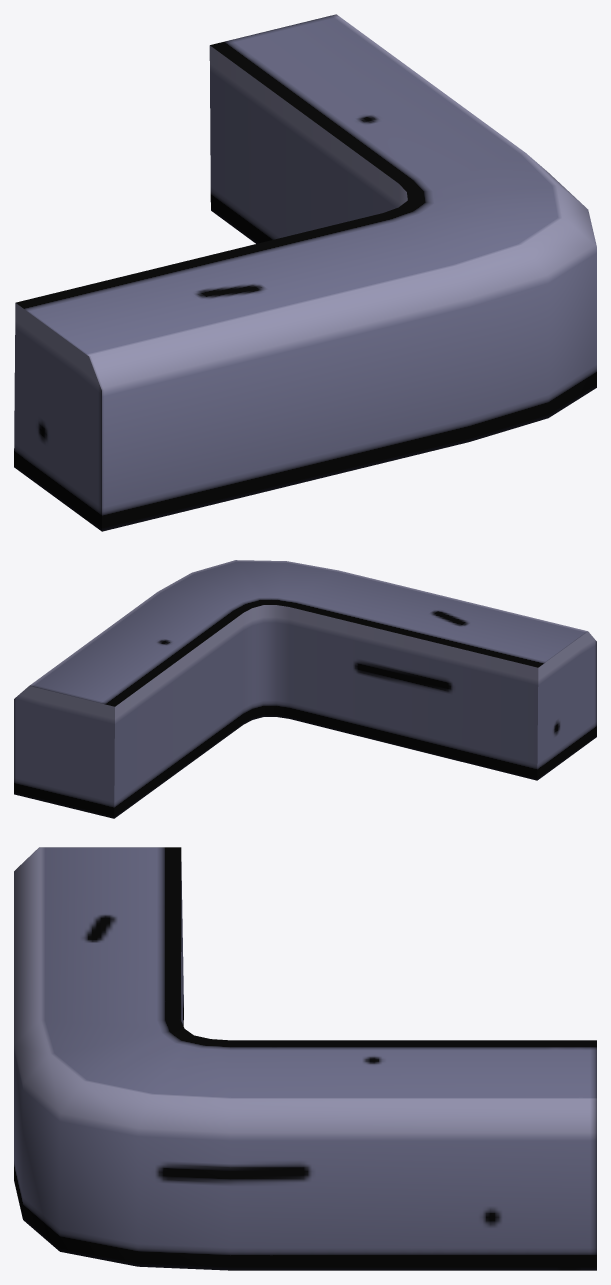
The model's file is corner_curb.fbx.
3 views of the same model, one above another, from view 1: azimuth 30°, elevation 25°; view 2: azimuth 150°, elevation 25°; view 3: azimuth 270°, elevation 25° (orthographic). The views are drawn at different scales.
Visible parts, largest first — view 1: corner_curb; view 2: corner_curb; view 3: corner_curb.
Boxes of the visible parts, x1,y1,x2,y2 form: corner_curb: [14, 14, 596, 531]; corner_curb: [14, 560, 596, 818]; corner_curb: [14, 847, 596, 1270].
Bounding box in the file's own units: 72.93 × 20.66 × 68.25.
